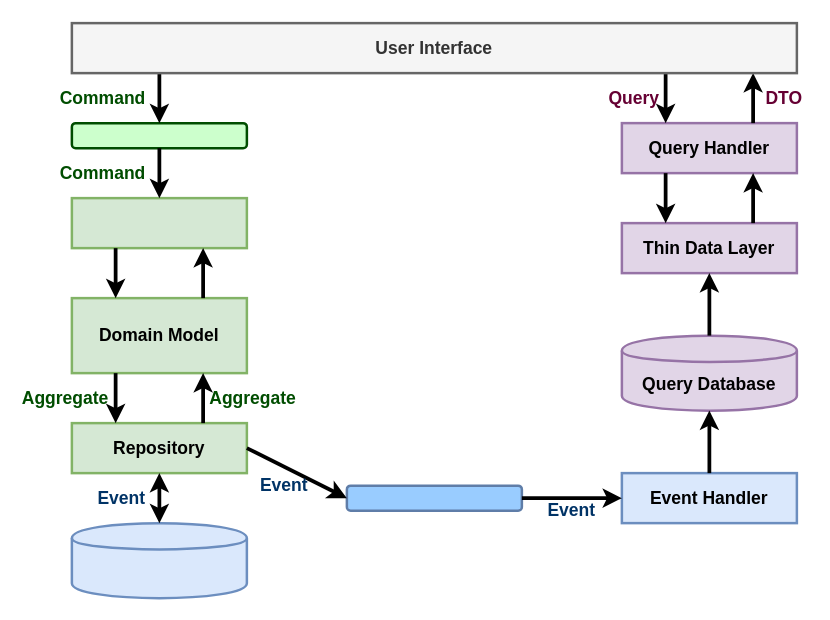
Image size: 830x620. Some labels were removed from this diagram. The box of each missing label's shape, as (x1, y1, x2, y2) in pixels:
Command Bus: (70, 121, 248, 149)
Command Handler: (70, 196, 248, 249)
Event Bus: (345, 484, 522, 511)
Event Store: (70, 521, 248, 599)
